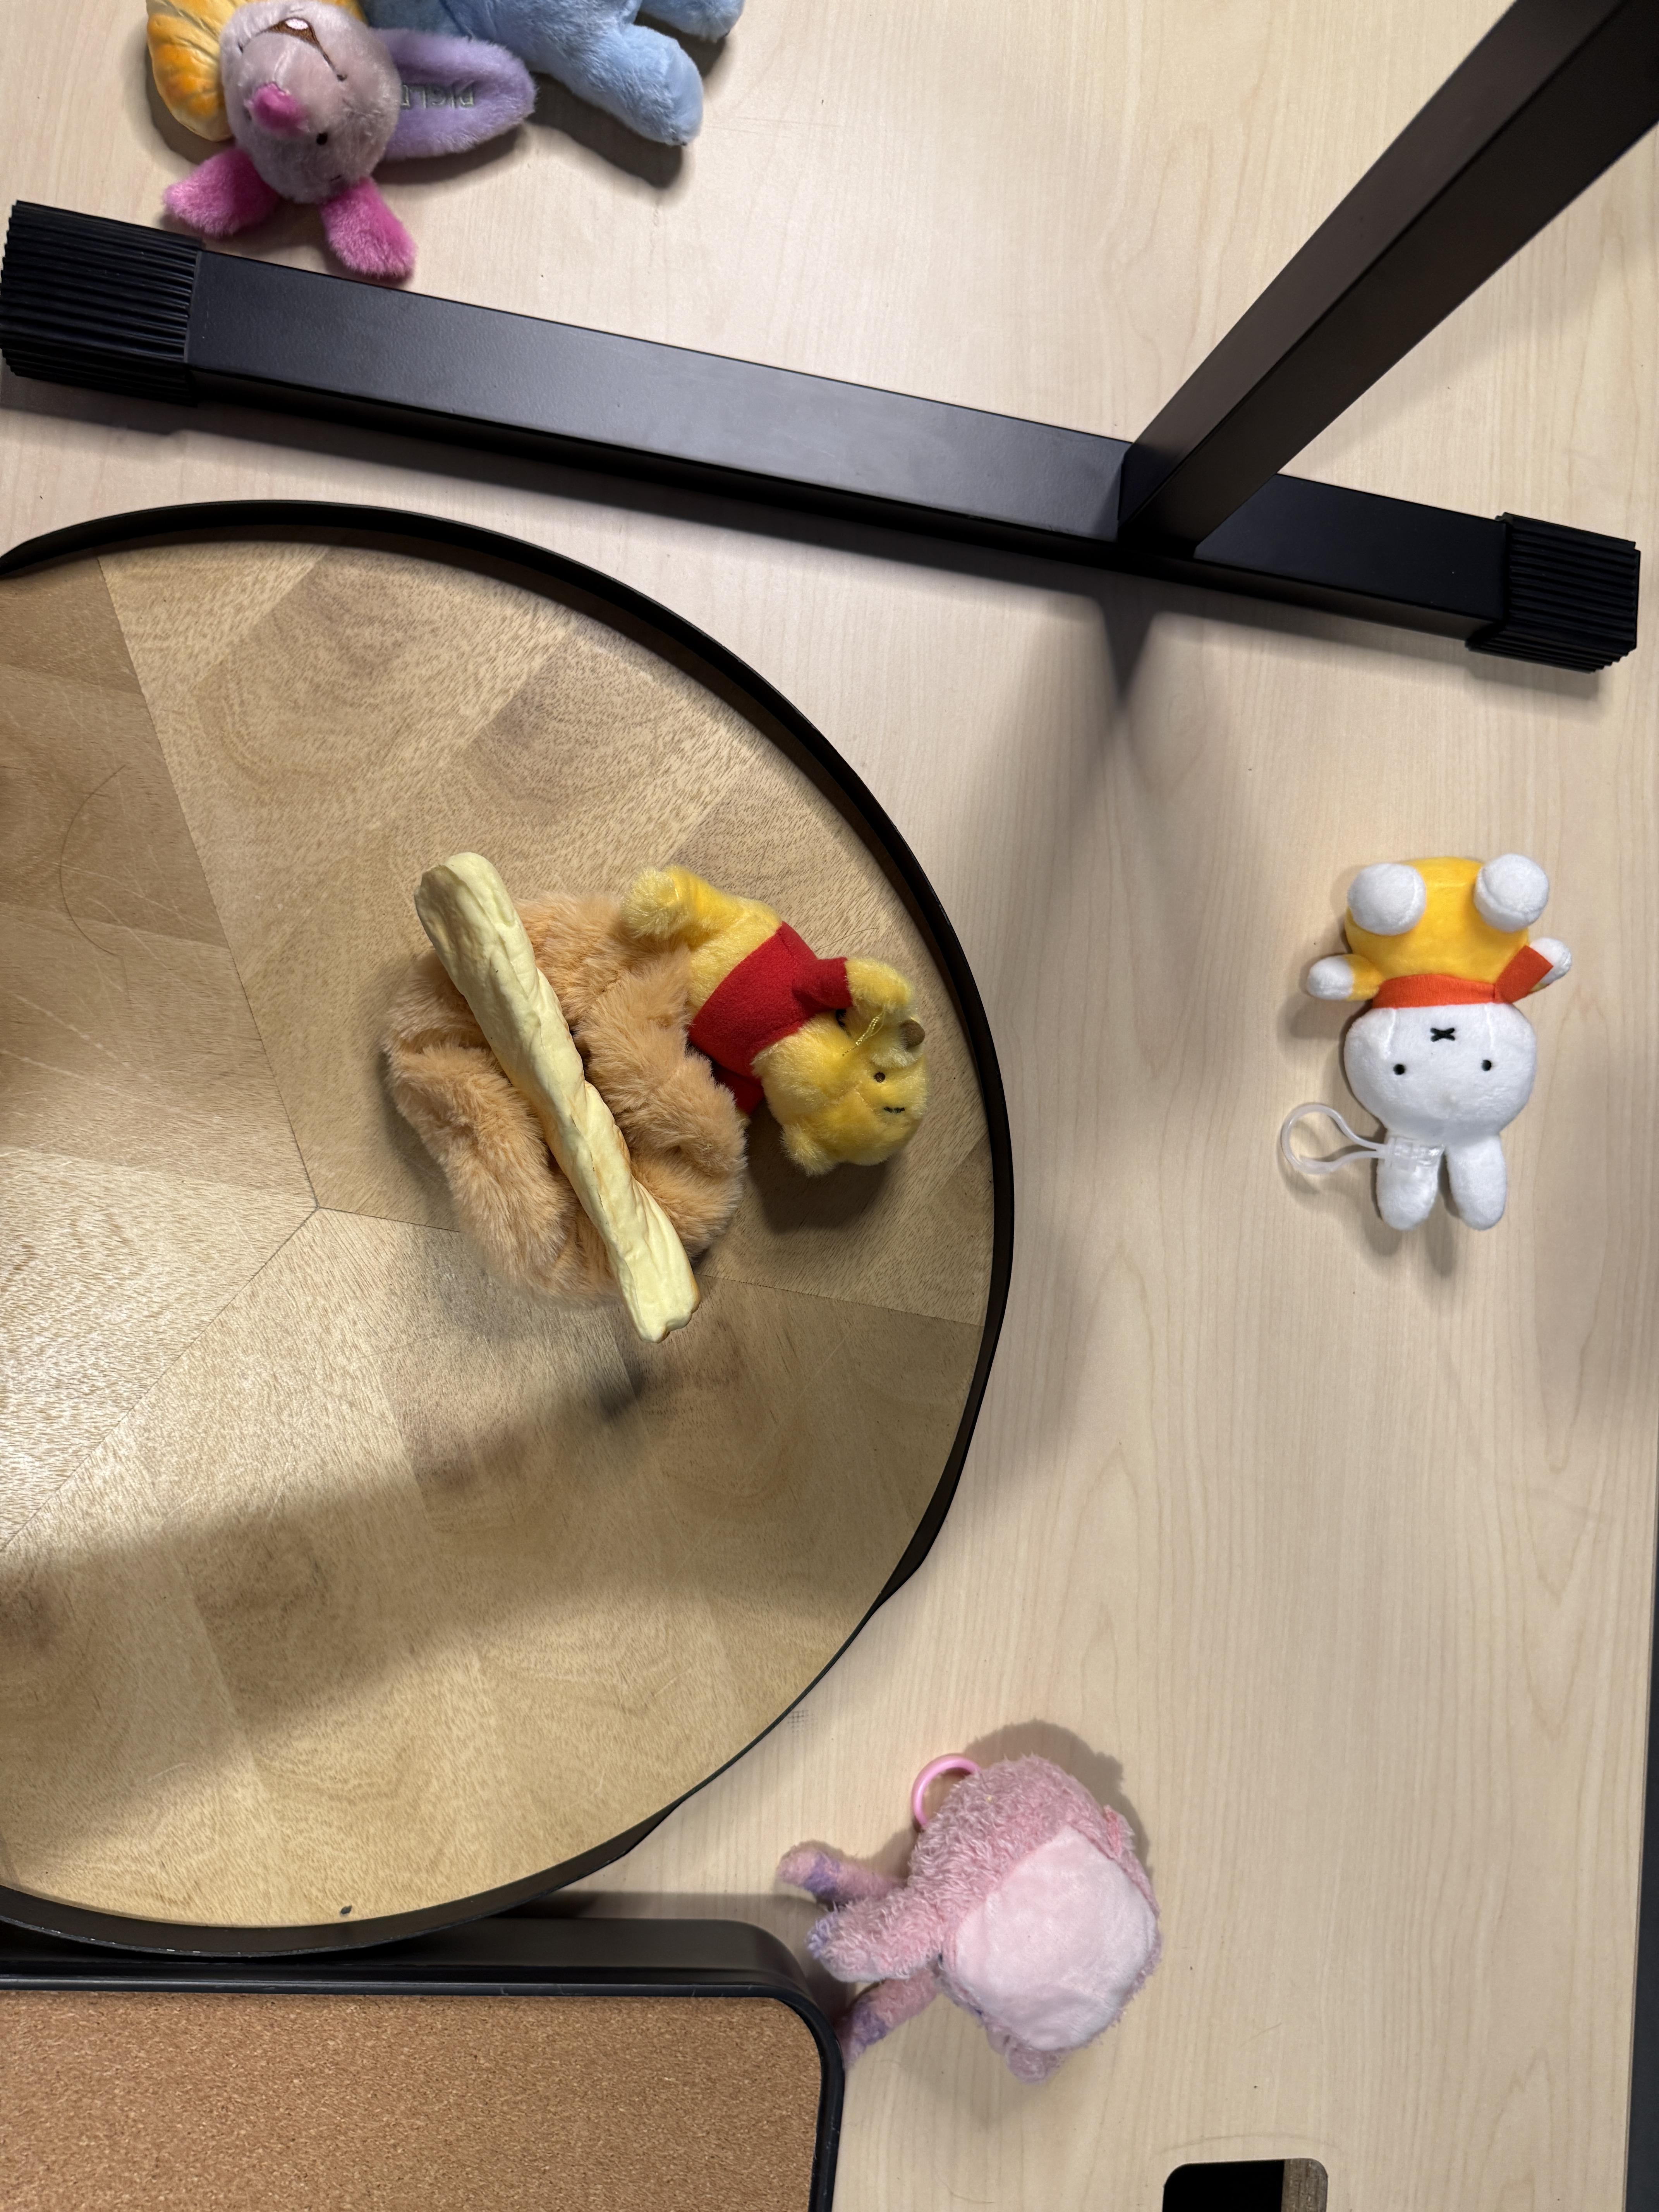bread: (425, 852, 709, 1339), (139, 3, 242, 143)
doll: (396, 880, 938, 1278), (789, 1738, 1178, 2069), (1293, 840, 1563, 1240), (197, 0, 542, 282), (364, 0, 756, 153)
